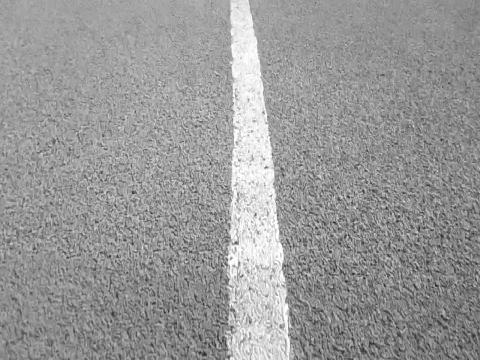Lines: (228, 0, 292, 360)
